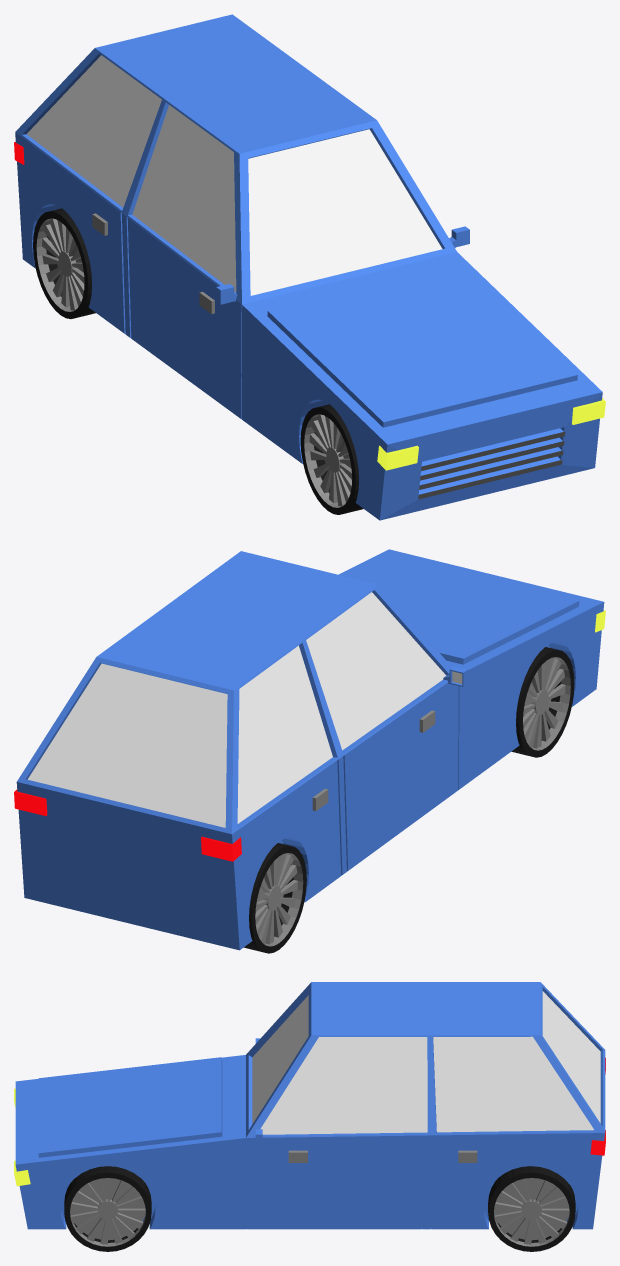
Rendered from car.glb.
3 views of the same model, one above another, from view 1: azimuth 30°, elevation 25°; view 2: azimuth 150°, elevation 25°; view 3: azimuth 270°, elevation 25° (orthographic). The views are drawn at different scales.
Visible parts, largest first — view 1: car body, tyre, headlight, side mirror; view 2: car body, tyre, back light, handle; view 3: car body, tyre, handle.
Part boxes in pixels (x1,y1,x2,y2): car body: (15, 14, 602, 520); tyre: (33, 208, 363, 514); headlight: (377, 398, 605, 470); side mirror: (216, 226, 469, 304); car body: (16, 549, 604, 950); tyre: (244, 647, 574, 953); back light: (14, 789, 241, 861); handle: (312, 710, 435, 810); car body: (15, 982, 605, 1229); tyre: (64, 1166, 575, 1251); handle: (288, 1150, 477, 1162).
Bounding box in the file's own units: 2.31 × 2.25 × 6.01.
